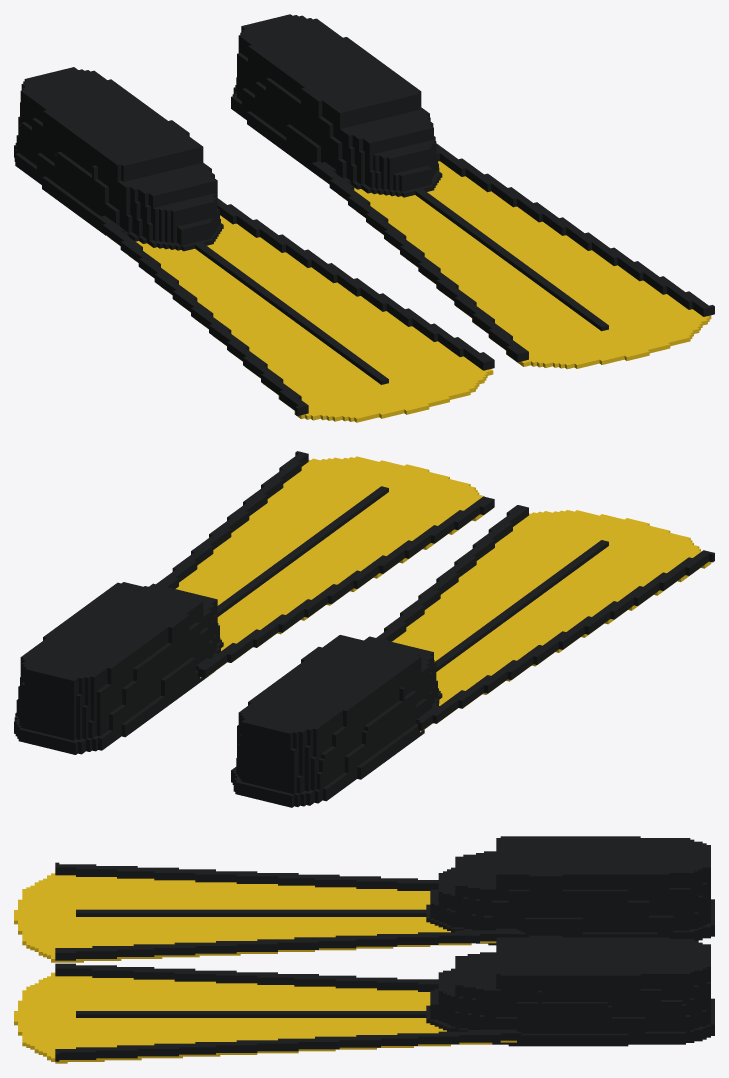
File: swim_fins.glb
The picture shows the model from 3 angles, top to bottom: view 1: azimuth 30°, elevation 25°; view 2: azimuth 150°, elevation 25°; view 3: azimuth 270°, elevation 25°; orthographic projection. The views are drawn at different scales.
Visible parts, largest first — view 1: swim_fins:compound; view 2: swim_fins:compound; view 3: swim_fins:compound.
Part boxes in pixels (x1,y1,x2,y2): swim_fins:compound: (14, 14, 714, 422); swim_fins:compound: (14, 451, 714, 807); swim_fins:compound: (14, 836, 714, 1063).
Size of the model in its own units: 0.44 by 0.072 by 0.68.
